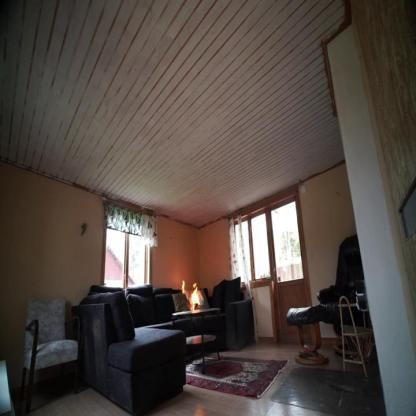fire: (190, 281, 202, 311), (181, 278, 186, 296)
